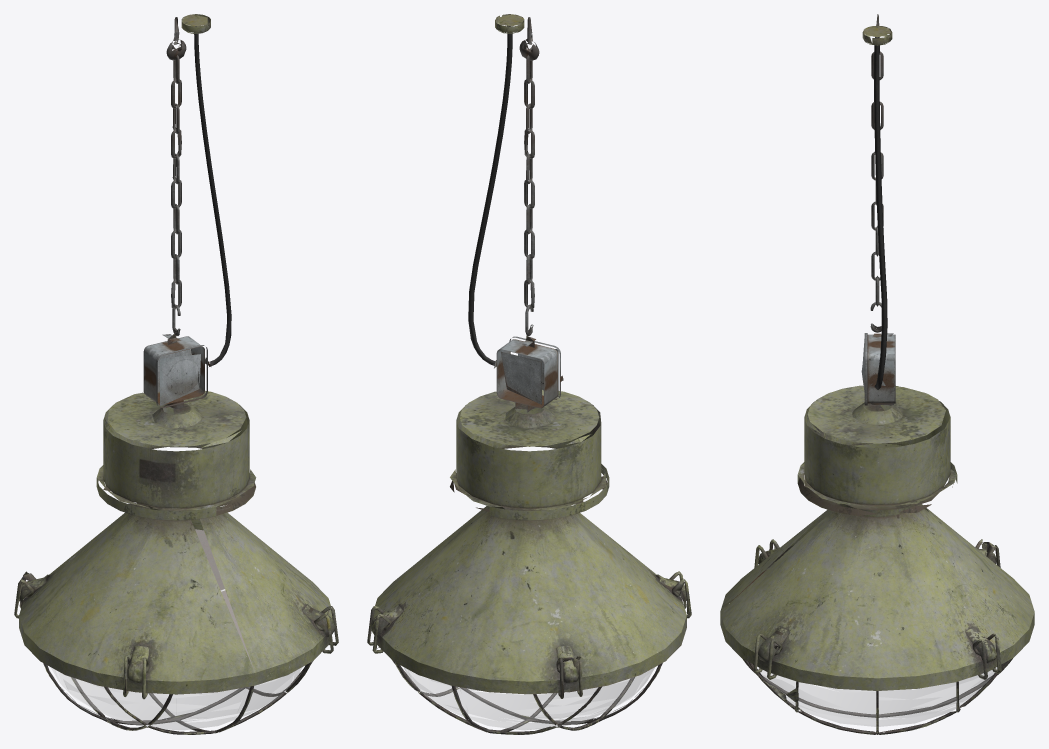
Rendered from hanging_industrial_lamp_lod.gltf.
3 views of the same model, side by side, from view 1: azimuth 30°, elevation 25°; view 2: azimuth 150°, elevation 25°; view 3: azimuth 270°, elevation 25° (orthographic).
Parts seen in each view (by area): view 1: hanging_industrial_lamp; view 2: hanging_industrial_lamp; view 3: hanging_industrial_lamp.
Part boxes in pixels (x1,y1,x2,y2): hanging_industrial_lamp: (14, 14, 338, 734); hanging_industrial_lamp: (367, 14, 691, 734); hanging_industrial_lamp: (720, 14, 1034, 734).
Size of the model in its own units: 0.5496 by 1.36 by 0.5496.
Materials: 2 (1 with a texture image).
